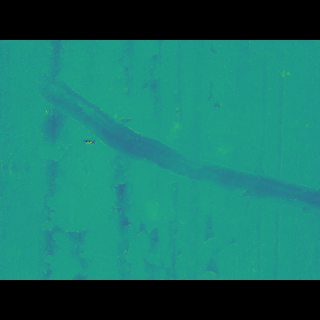Loch: (12, 82, 320, 208)
